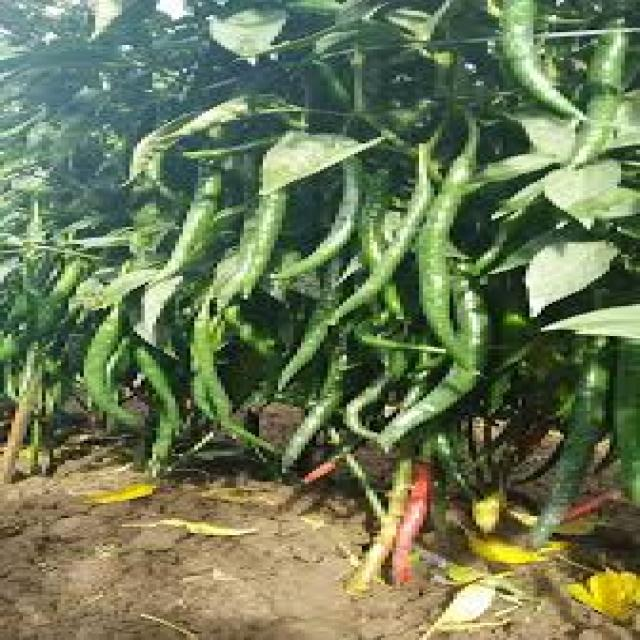sehat: (509, 226, 621, 318), (541, 158, 640, 225)
